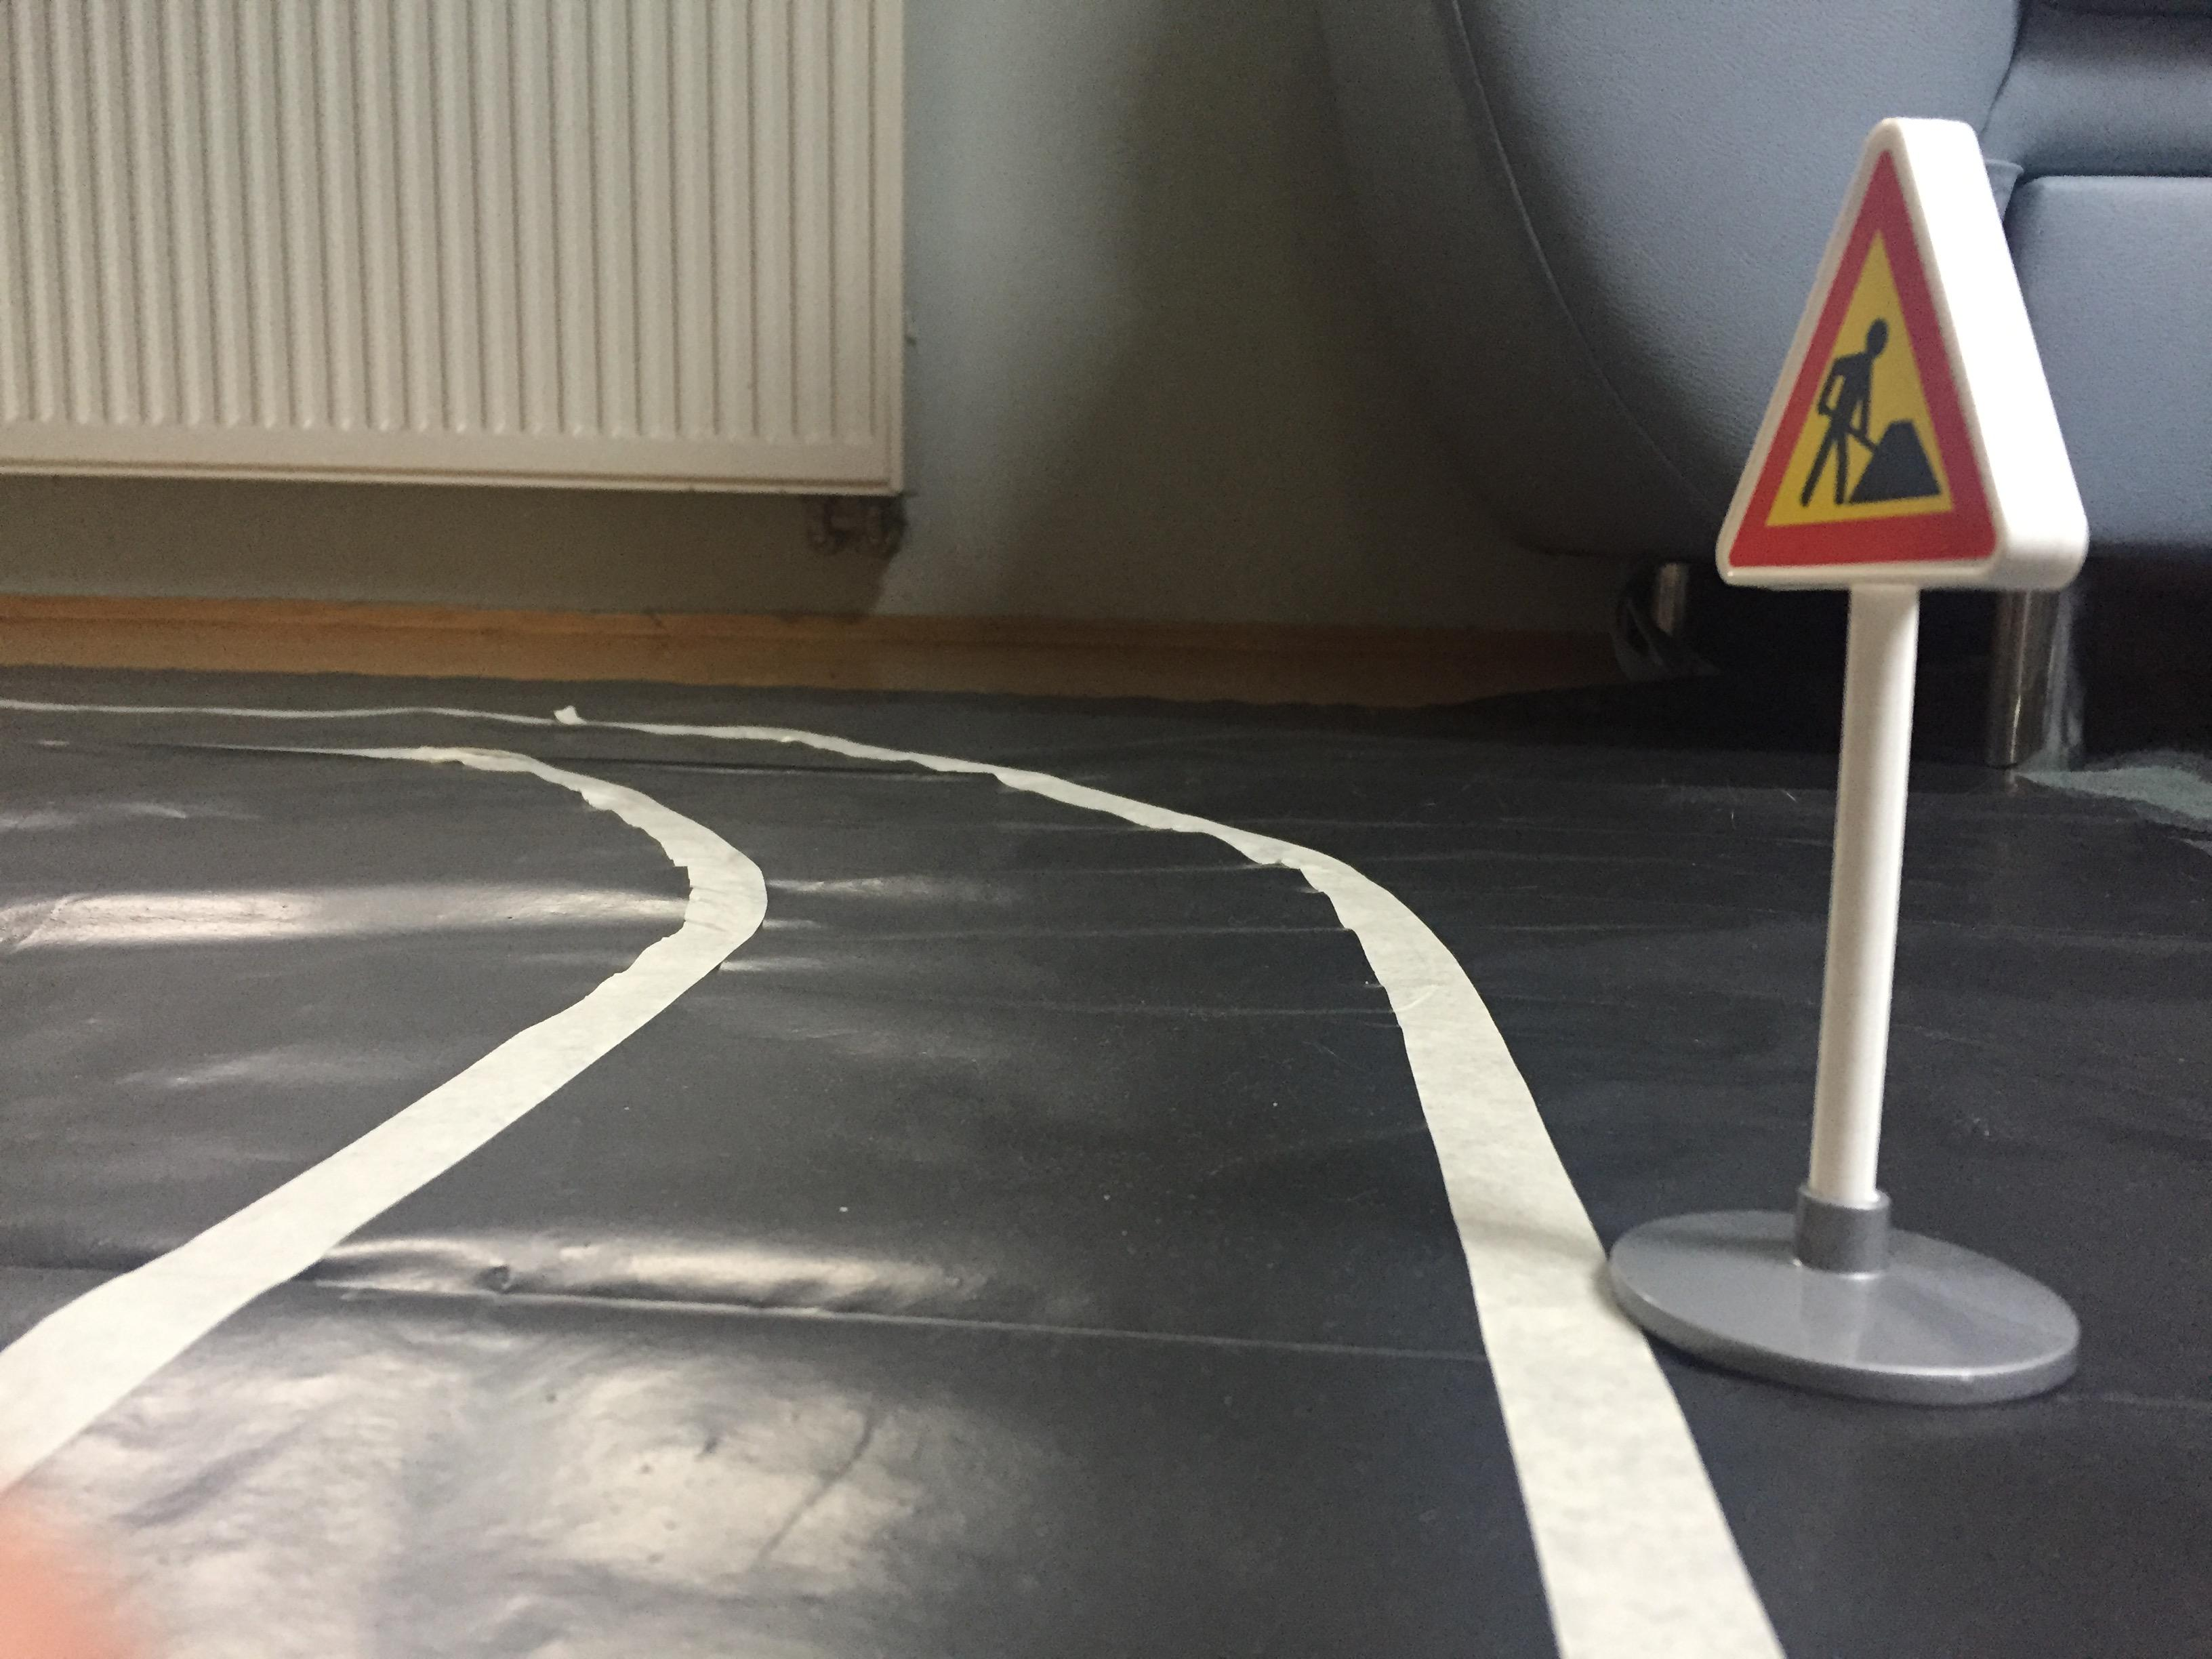work: (1702, 112, 2090, 617)
